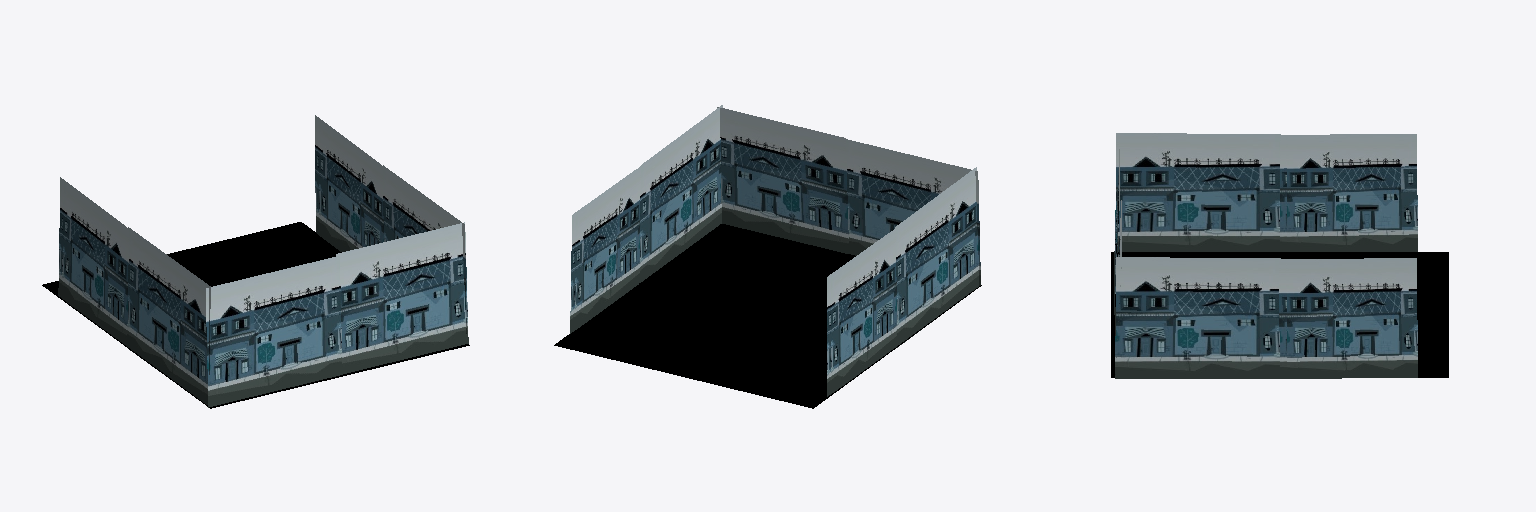
3 renders of one model, left to right at view 1: azimuth 30°, elevation 25°; view 2: azimuth 150°, elevation 25°; view 3: azimuth 270°, elevation 25°, orthographic.
Parts seen in each view (by area): view 1: pPlane8 polySurface8, pPlane8 polySurface9, pPlane8 polySurface2, pPlane8 polySurface6, pPlane8 polySurface5, pPlane9, polySurface1 pPlane8; view 2: pPlane9, pPlane8 polySurface9, pPlane8 polySurface2, polySurface1 pPlane8, pPlane8 polySurface8, pPlane8 polySurface6, pPlane8 polySurface5; view 3: polySurface1 pPlane8, pPlane8 polySurface2, pPlane8 polySurface3, pPlane8 polySurface4, pPlane9, pPlane8 polySurface5, pPlane8 polySurface6.
Part boxes in pixels (x1,y1,x2,y2): pPlane8 polySurface8: (206, 256, 342, 407); pPlane8 polySurface9: (336, 222, 468, 373); pPlane8 polySurface2: (127, 227, 210, 404); pPlane8 polySurface6: (62, 180, 128, 345); pPlane8 polySurface5: (319, 118, 383, 251); pPlane9: (42, 222, 469, 408); polySurface1 pPlane8: (383, 165, 466, 333); pPlane9: (554, 224, 981, 408); pPlane8 polySurface9: (717, 107, 848, 253); pPlane8 polySurface2: (895, 167, 978, 347); polySurface1 pPlane8: (640, 105, 722, 282); pPlane8 polySurface8: (846, 139, 980, 285); pPlane8 polySurface6: (831, 228, 896, 393); pPlane8 polySurface5: (574, 166, 640, 330); polySurface1 pPlane8: (1115, 257, 1280, 378); pPlane8 polySurface2: (1115, 133, 1280, 251); pPlane8 polySurface3: (1286, 258, 1417, 378); pPlane8 polySurface4: (1286, 134, 1417, 251); pPlane9: (1111, 252, 1448, 377); pPlane8 polySurface5: (1279, 258, 1385, 378); pPlane8 polySurface6: (1280, 134, 1352, 251).
Size of the model in its own units: 23.29 by 10.36 by 26.18.
2 materials, 1 textured.